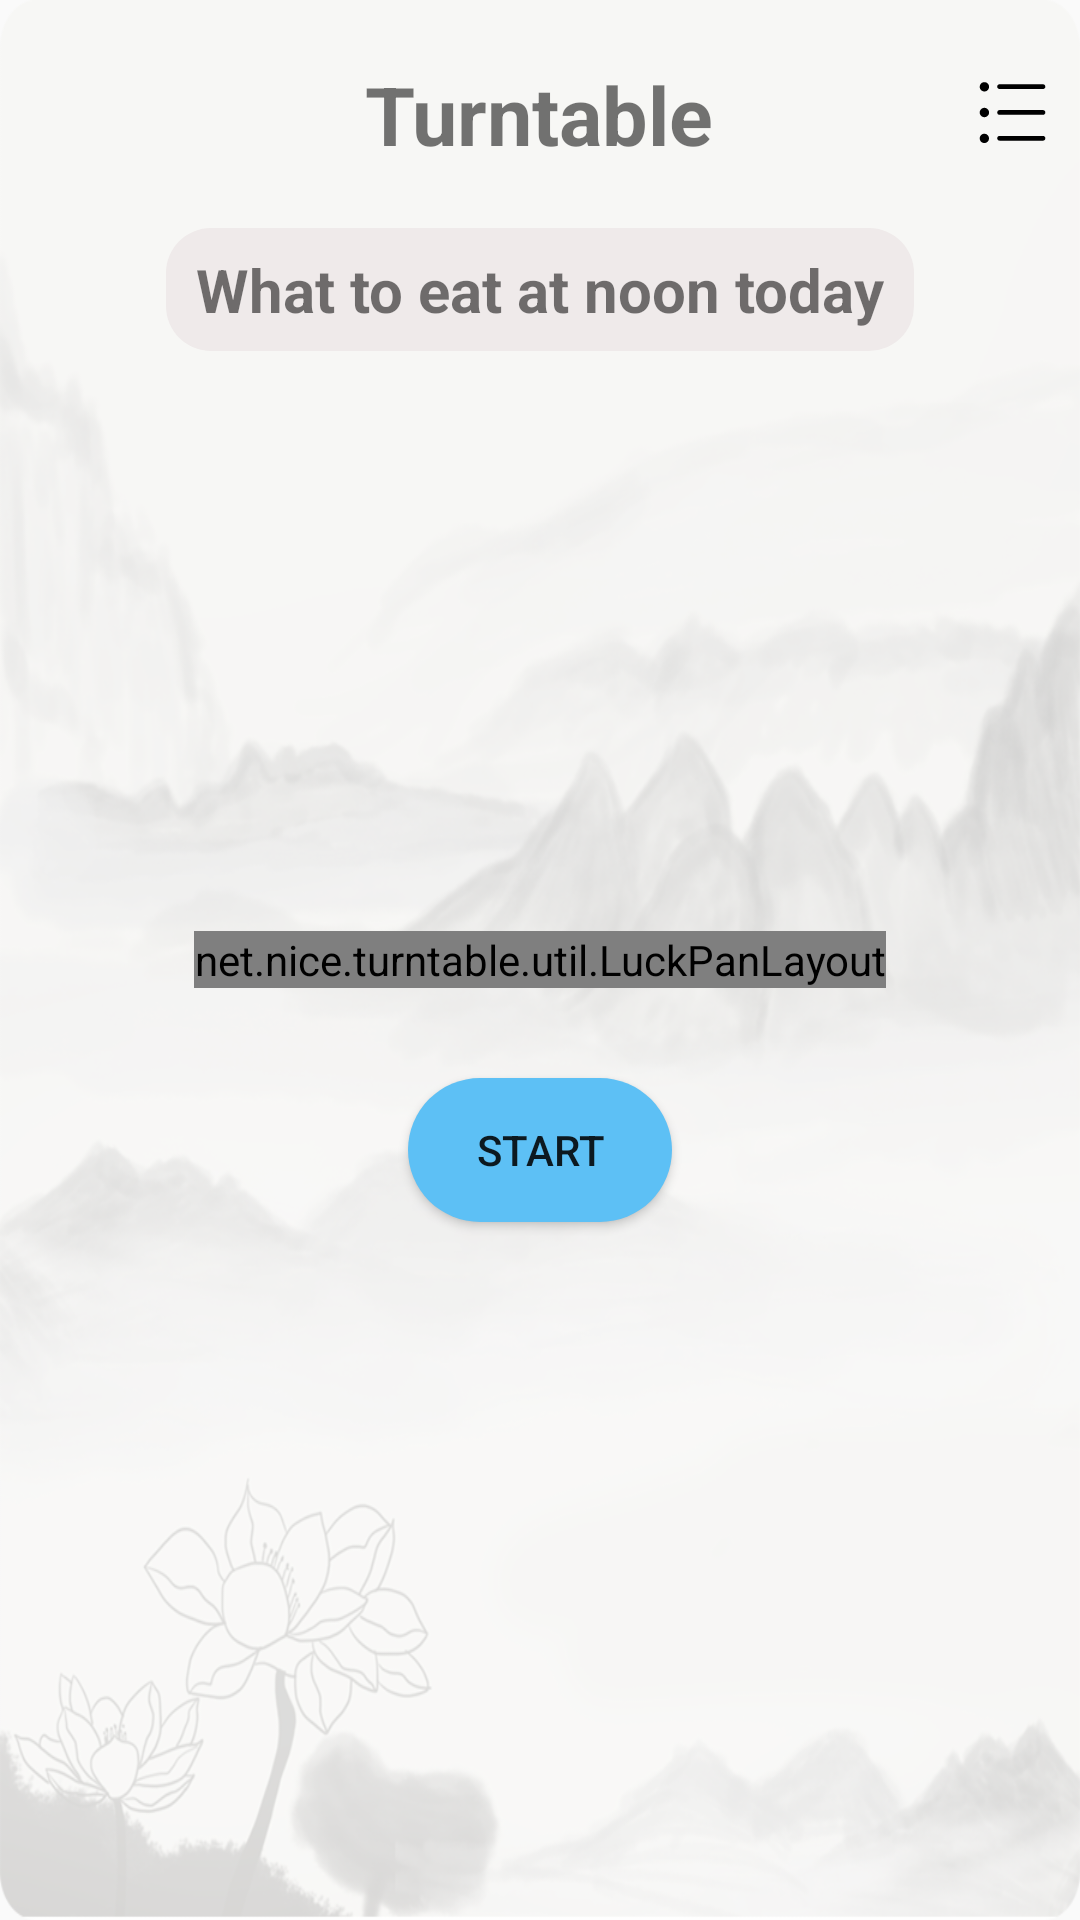

Icon click points for this 1080x1920 phone screenshot, format (x=x, y=y):
menu: (x=1012, y=112)
